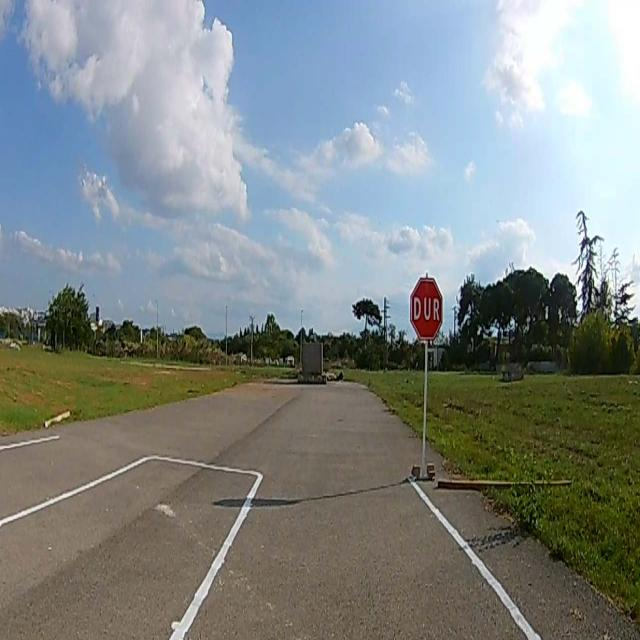dur: (410, 278, 444, 338)
